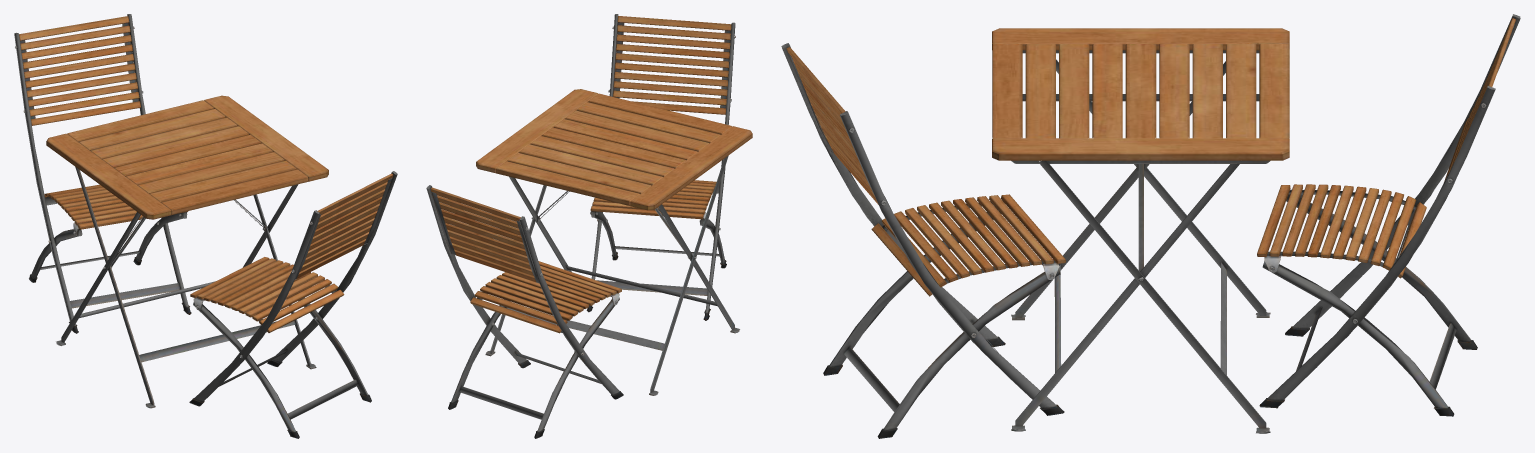
The model's file is patio-set.glb.
3 views of the same model, side by side, from view 1: azimuth 30°, elevation 25°; view 2: azimuth 150°, elevation 25°; view 3: azimuth 270°, elevation 25° (orthographic). The views are drawn at different scales.
Parts seen in each view (by area): view 1: outdoor_table_chair_set_01_table, outdoor_table_chair_set_01_chair_02, outdoor_table_chair_set_01_chair_01; view 2: outdoor_table_chair_set_01_table, outdoor_table_chair_set_01_chair_02, outdoor_table_chair_set_01_chair_01; view 3: outdoor_table_chair_set_01_table, outdoor_table_chair_set_01_chair_01, outdoor_table_chair_set_01_chair_02.
Part boxes in pixels (x1,y1,x2,y2): outdoor_table_chair_set_01_table: [46, 95, 328, 408]; outdoor_table_chair_set_01_chair_02: [14, 14, 191, 333]; outdoor_table_chair_set_01_chair_01: [189, 171, 397, 438]; outdoor_table_chair_set_01_table: [476, 89, 752, 395]; outdoor_table_chair_set_01_chair_02: [426, 185, 623, 438]; outdoor_table_chair_set_01_chair_01: [586, 14, 735, 320]; outdoor_table_chair_set_01_table: [992, 28, 1289, 433]; outdoor_table_chair_set_01_chair_01: [781, 43, 1065, 438]; outdoor_table_chair_set_01_chair_02: [1257, 14, 1520, 416].
Size of the model in its own units: 0.742 by 0.8586 by 1.72.
2 materials, 2 textured.
